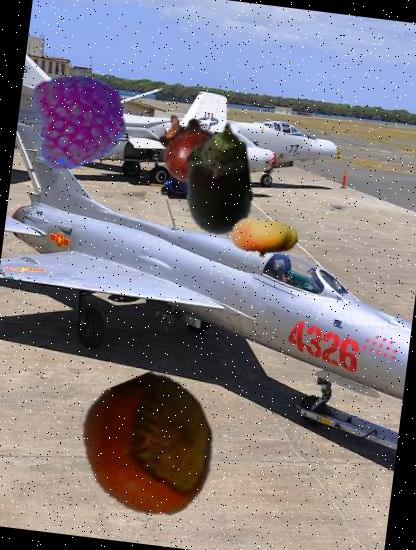Eggplant: (154, 115, 282, 243)
Mangostan: (148, 108, 228, 189)
Nut: (72, 369, 228, 526)
Peach: (227, 202, 301, 276)
Raspberry: (27, 66, 134, 174)
